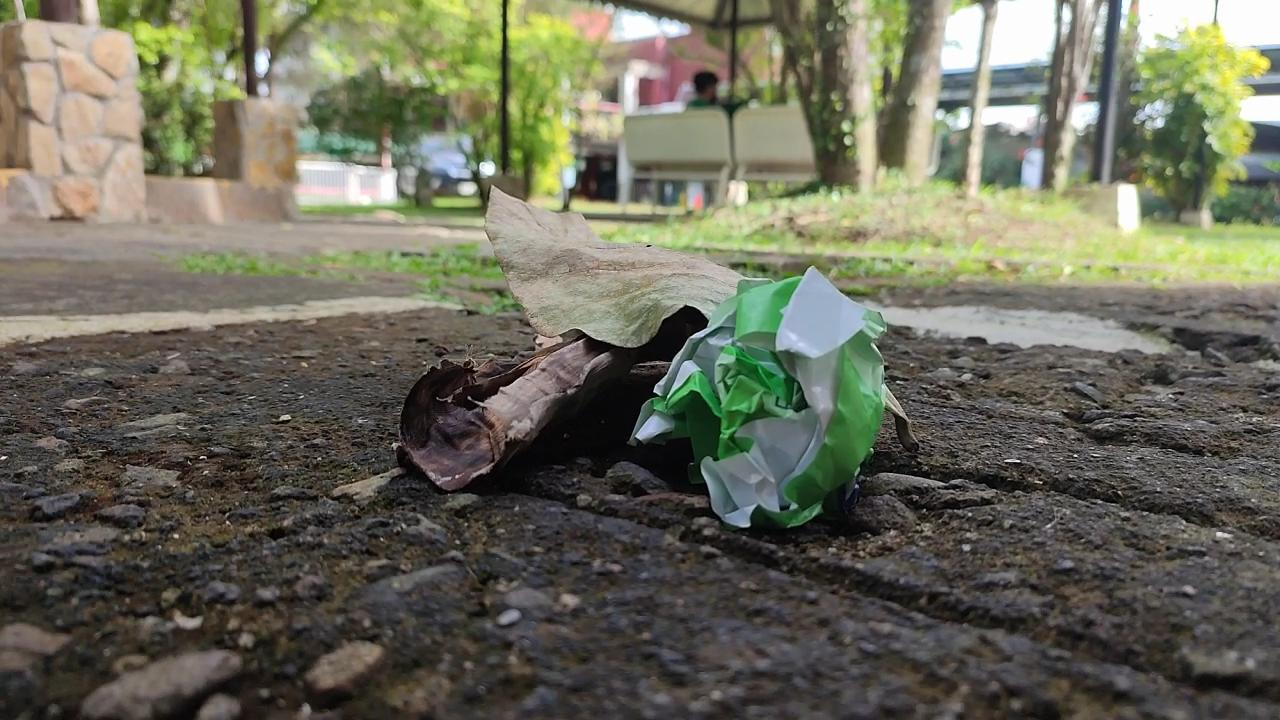Paper: (603, 242, 907, 545)
